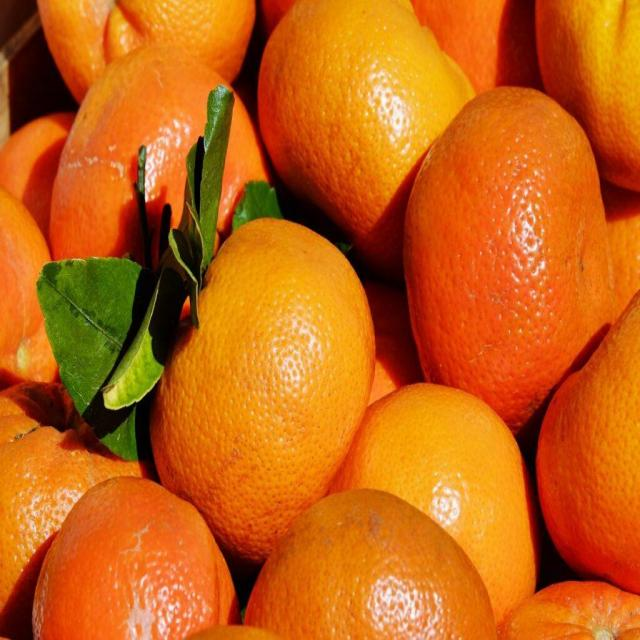10_tangerine: (153, 205, 385, 552), (400, 81, 619, 445), (47, 39, 273, 360), (258, 5, 482, 282), (348, 380, 538, 614), (242, 481, 498, 640), (26, 461, 243, 640), (534, 273, 640, 591), (525, 1, 640, 195)
